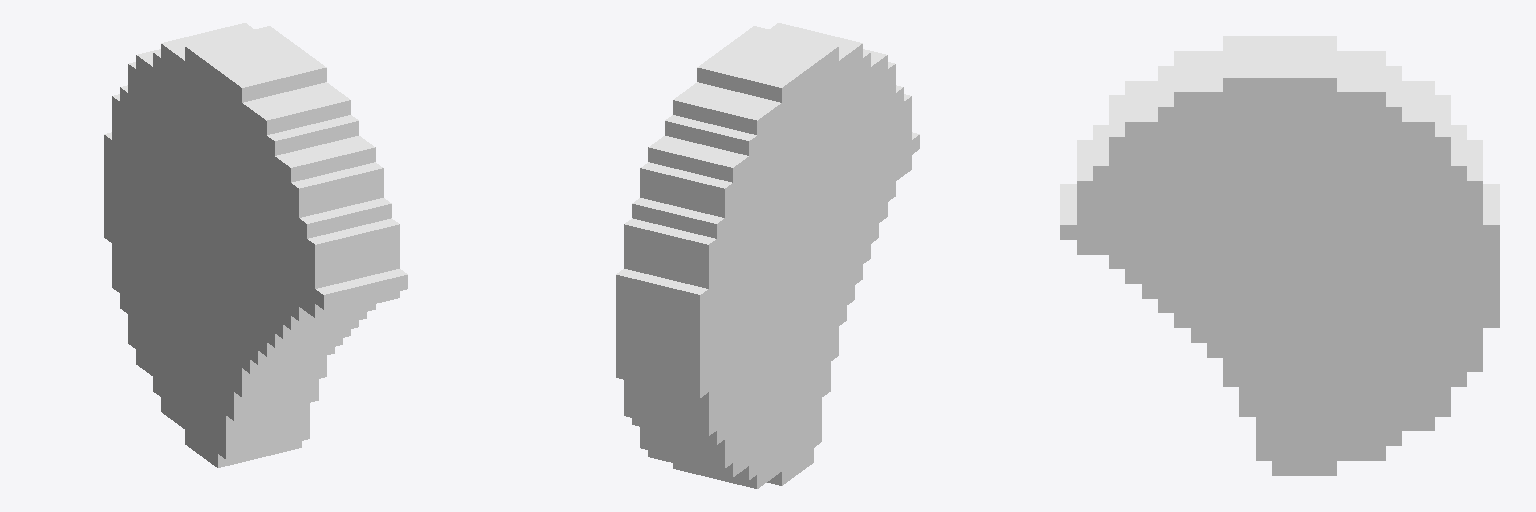
File: Eruption-5.obj
3 views of the same model, side by side, from view 1: azimuth 30°, elevation 25°; view 2: azimuth 150°, elevation 25°; view 3: azimuth 270°, elevation 25° (orthographic).
Visible parts, largest first — view 1: object 1; view 2: object 1; view 3: object 1.
Boxes of the visible parts, box(x1,y1,x2,y2) form: object 1: box(104, 23, 407, 467); object 1: box(616, 23, 919, 488); object 1: box(1060, 36, 1499, 475).
Size of the model in its own units: 0.6 by 2.7 by 2.7.